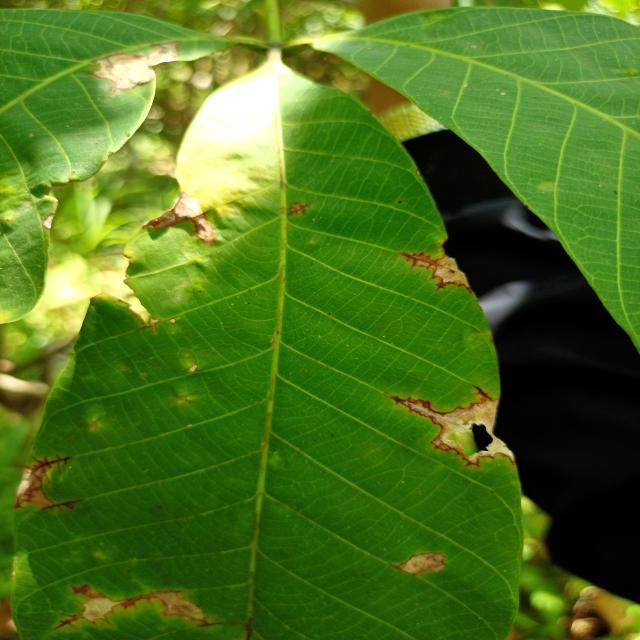Colletotrichum: (398, 200, 402, 203)
Corynespora: (391, 396, 442, 424), (26, 455, 72, 481), (397, 250, 438, 274), (431, 277, 472, 295), (54, 612, 85, 631), (41, 500, 82, 513), (286, 201, 312, 217), (471, 385, 491, 400)
Leaf-Blight: (439, 398, 516, 462), (92, 41, 179, 92), (141, 192, 215, 243), (14, 467, 52, 508), (156, 591, 205, 620), (398, 552, 446, 575), (438, 258, 470, 286), (82, 598, 114, 622), (44, 214, 54, 228)
